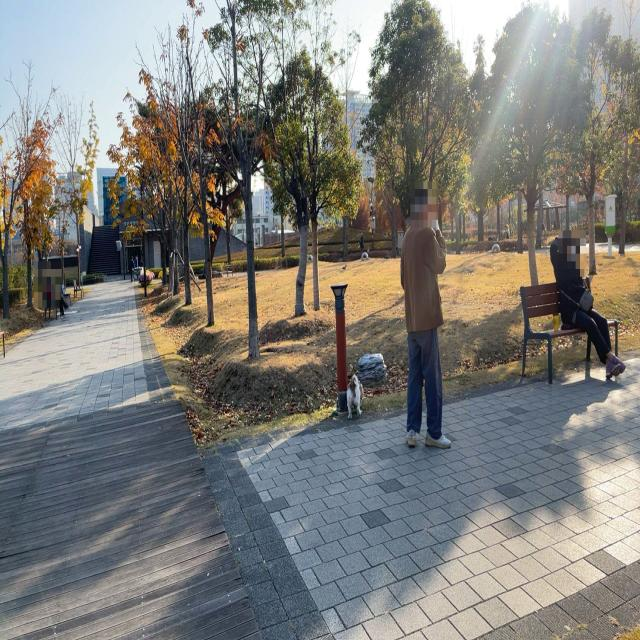Leashed_Dog: (346, 328, 419, 421)
